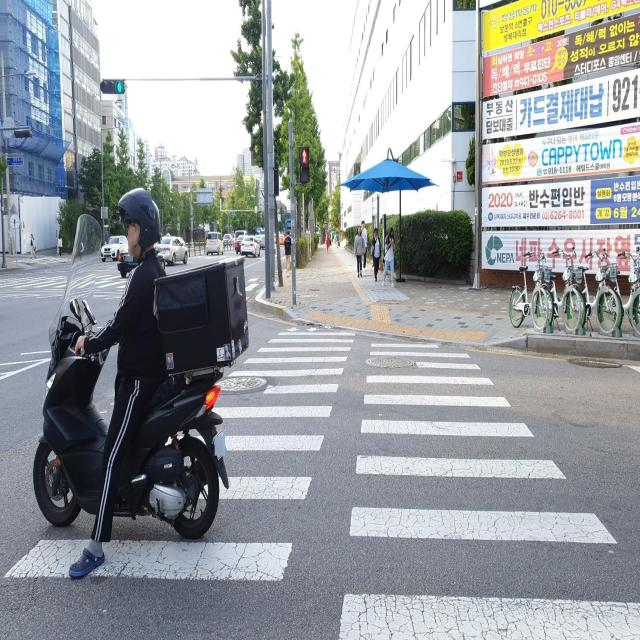빨간불: (299, 146, 310, 184)
횡단보도: (6, 323, 640, 640), (0, 264, 266, 300)
